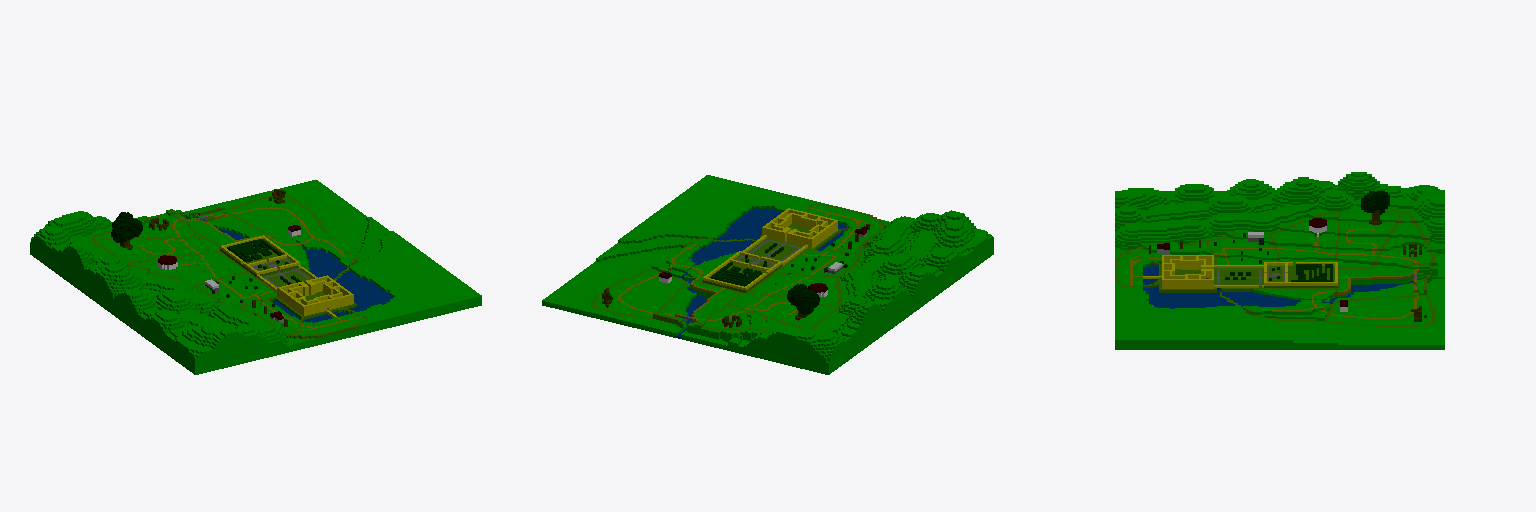
3 views of the same model, side by side, from view 1: azimuth 30°, elevation 25°; view 2: azimuth 150°, elevation 25°; view 3: azimuth 270°, elevation 25° (orthographic).
Bounding box in the file's own units: 126 × 20 × 126.
Materials: 1 (1 with a texture image).